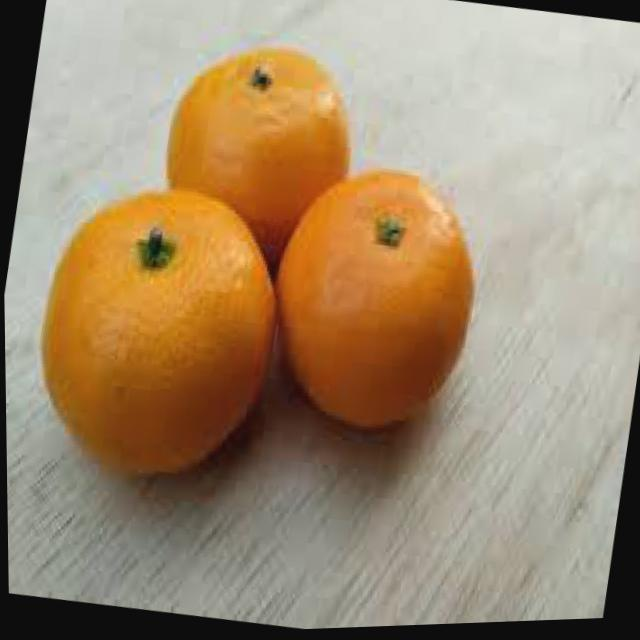orange: (21, 169, 295, 495), (253, 154, 492, 449), (148, 30, 367, 279)
